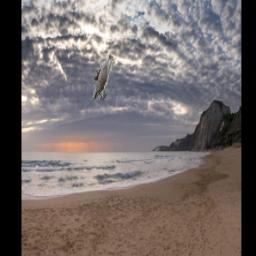Cuckoo: (91, 52, 113, 100)
